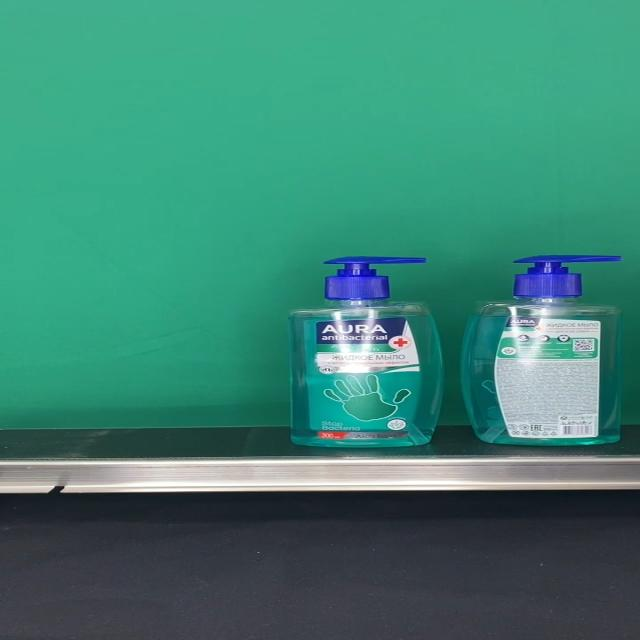Bottle: (461, 253, 622, 446), (289, 256, 443, 447)
Cap: (512, 254, 622, 298), (321, 256, 426, 300)
